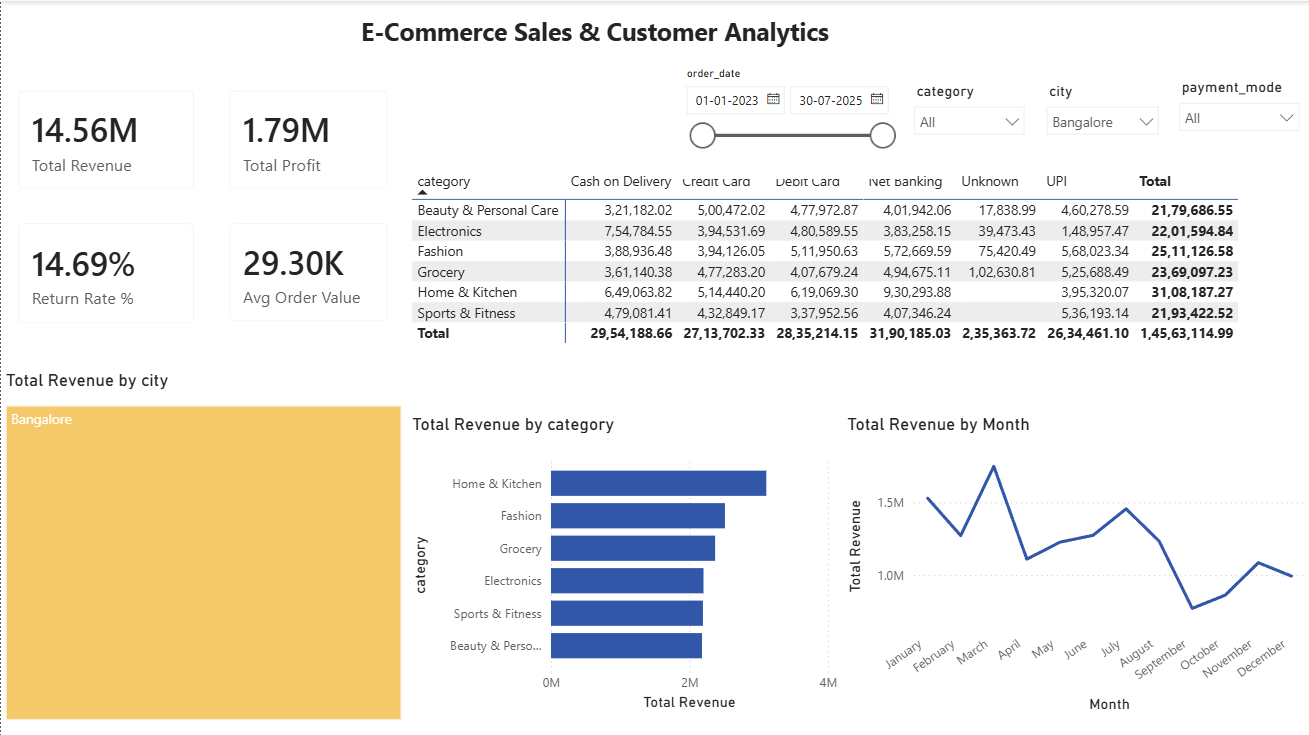

What the dashboard file says about the page in this screenshot:
{"tool":"powerbi","page":{"name":"Page 1","canvas":[1280,720],"ordinal":0},"visuals":[{"type":"cardVisual","fields":{"Data":["analytics_project orders.Total Revenue"]},"box":[0,71,206.9,131],"z":0},{"type":"cardVisual","fields":{"Data":["analytics_project orders.Total Profit"]},"box":[207.3,70.8,189.6,130.2],"z":1},{"type":"cardVisual","fields":{"Data":["analytics_project orders.Return Rate %"]},"box":[0,200.8,206.9,132.2],"z":2},{"type":"cardVisual","fields":{"Data":["analytics_project orders.Average Order Value"]},"box":[207.3,200.9,189.6,130.2],"z":3},{"type":"textbox","box":[347.3,8.6,475.2,51.8],"z":4},{"type":"lineChart","fields":{"Category":["analytics_project orders.order_date.Variation.Date Hierarchy.Month"],"Y":["analytics_project orders.Total Revenue"]},"box":[822.7,403,457.6,297],"z":5},{"type":"clusteredBarChart","fields":{"Category":["analytics_project products.category"],"Y":["analytics_project orders.Total Revenue"]},"box":[396.8,403.2,425.9,295.7],"z":6},{"type":"treemap","fields":{"Group":["analytics_project customers.city"],"Values":["analytics_project orders.Total Revenue"]},"box":[0,360.2,396.8,347.6],"z":7},{"type":"pivotTable","fields":{"Columns":["analytics_project orders.payment_mode"],"Rows":["analytics_project products.category"],"Values":["analytics_project orders.Total Revenue"]},"box":[396.8,160.5,883.4,236.3],"z":8},{"type":"slicer","fields":{"Values":["analytics_project orders.order_date"]},"box":[657.6,59.1,225.8,115.2],"z":9},{"type":"slicer","fields":{"Values":["analytics_project products.category"]},"box":[883.3,74.2,128.8,89.4],"z":10},{"type":"slicer","fields":{"Values":["analytics_project orders.city"]},"box":[1012.1,74.2,130.3,89.4],"z":11},{"type":"slicer","fields":{"Values":["analytics_project orders.payment_mode"]},"box":[1142.4,71.2,137.9,89.4],"z":12}]}

Visuals, with their boxes in screenshot pixels (x1, y1, x2, y2), scaled from the page's 1280x720 canvas onto the 1309x735 screenshot:
cardVisual - analytics_project orders.Total Revenue: (x1=0, y1=72, x2=212, y2=206)
cardVisual - analytics_project orders.Total Profit: (x1=212, y1=72, x2=406, y2=205)
cardVisual - analytics_project orders.Return Rate %: (x1=0, y1=205, x2=212, y2=340)
cardVisual - analytics_project orders.Average Order Value: (x1=212, y1=205, x2=406, y2=338)
textbox: (x1=355, y1=9, x2=841, y2=62)
lineChart - analytics_project orders.order_date.Variation.Date Hierarchy.Month x analytics_project orders.Total Revenue: (x1=841, y1=411, x2=1308, y2=715)
clusteredBarChart - analytics_project products.category x analytics_project orders.Total Revenue: (x1=406, y1=412, x2=841, y2=713)
treemap - analytics_project customers.city x analytics_project orders.Total Revenue: (x1=0, y1=368, x2=406, y2=723)
pivotTable - analytics_project orders.payment_mode x analytics_project products.category: (x1=406, y1=164, x2=1308, y2=405)
slicer - analytics_project orders.order_date: (x1=672, y1=60, x2=903, y2=178)
slicer - analytics_project products.category: (x1=903, y1=76, x2=1035, y2=167)
slicer - analytics_project orders.city: (x1=1035, y1=76, x2=1168, y2=167)
slicer - analytics_project orders.payment_mode: (x1=1168, y1=73, x2=1308, y2=164)
